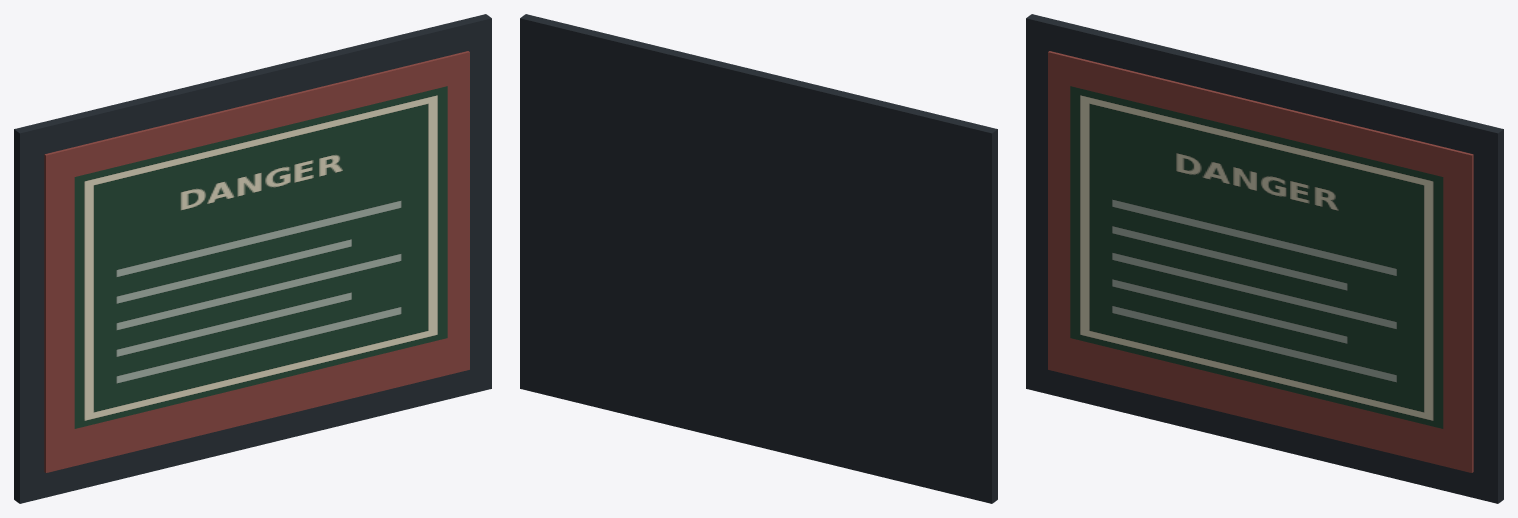
The model's file is danger_signs.glb.
3 renders of one model, left to right at view 1: azimuth 30°, elevation 25°; view 2: azimuth 150°, elevation 25°; view 3: azimuth 330°, elevation 25°, orthographic.
Parts seen in each view (by area): view 1: printed_surface, body; view 2: body; view 3: printed_surface, body.
Part boxes in pixels (x1,y1,x2,y2): printed_surface: [74, 86, 447, 428]; body: [14, 14, 491, 503]; body: [520, 14, 997, 503]; printed_surface: [1070, 86, 1443, 428]; body: [1026, 14, 1503, 503].
Bounding box in the file's own units: 0.392 × 0.294 × 0.016.
Materials: 2 (2 with a texture image).
